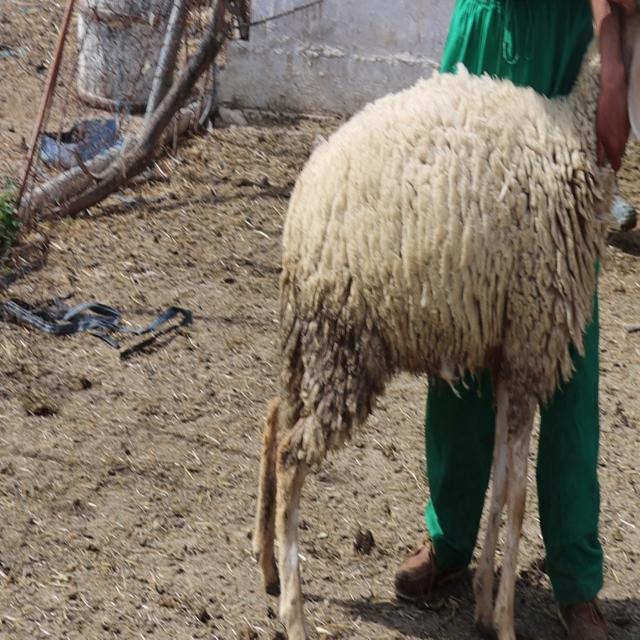Score_3: (253, 53, 613, 639)
